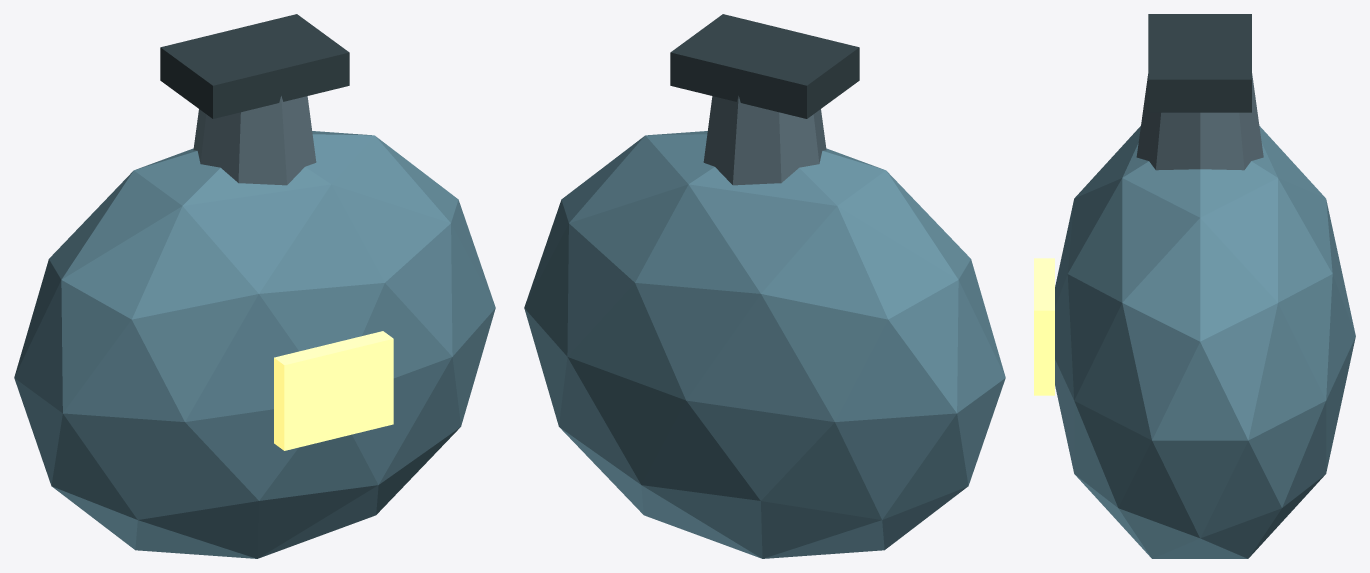
The model's file is methane_pouch.glb.
The picture shows the model from 3 angles, left to right: view 1: azimuth 30°, elevation 25°; view 2: azimuth 150°, elevation 25°; view 3: azimuth 270°, elevation 25°; orthographic projection.
Visible parts, largest first — view 1: Methane pouch, Seal, Pouch marking, Sealed neck; view 2: Methane pouch, Seal, Sealed neck; view 3: Methane pouch, Seal, Sealed neck, Pouch marking.
Part boxes in pixels (x1,y1,x2,y2): Methane pouch: [14, 131, 495, 558]; Seal: [160, 14, 349, 118]; Pouch marking: [274, 331, 393, 450]; Sealed neck: [193, 96, 316, 185]; Methane pouch: [524, 131, 1005, 558]; Seal: [670, 14, 859, 118]; Sealed neck: [703, 96, 826, 185]; Methane pouch: [1055, 126, 1355, 558]; Seal: [1148, 14, 1251, 112]; Sealed neck: [1136, 73, 1263, 170]; Pouch marking: [1034, 258, 1054, 395].
Bounding box in the file's own units: 0.4755 × 0.5275 × 0.31.
